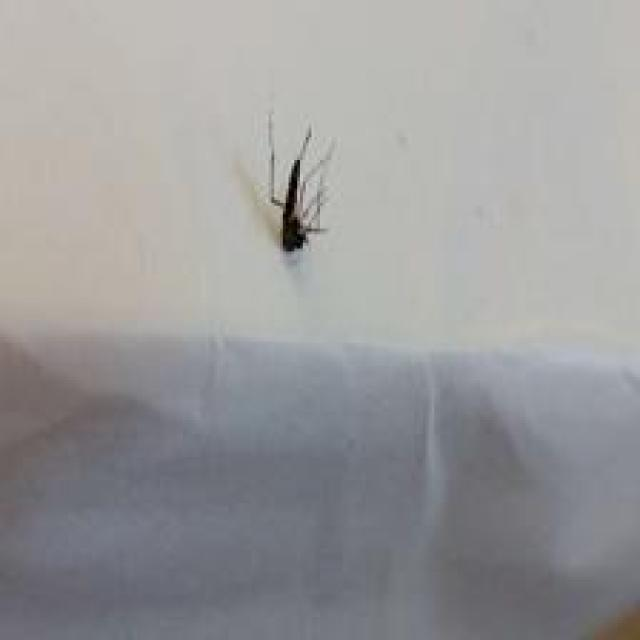Aedes albopictus: (261, 109, 336, 254)
